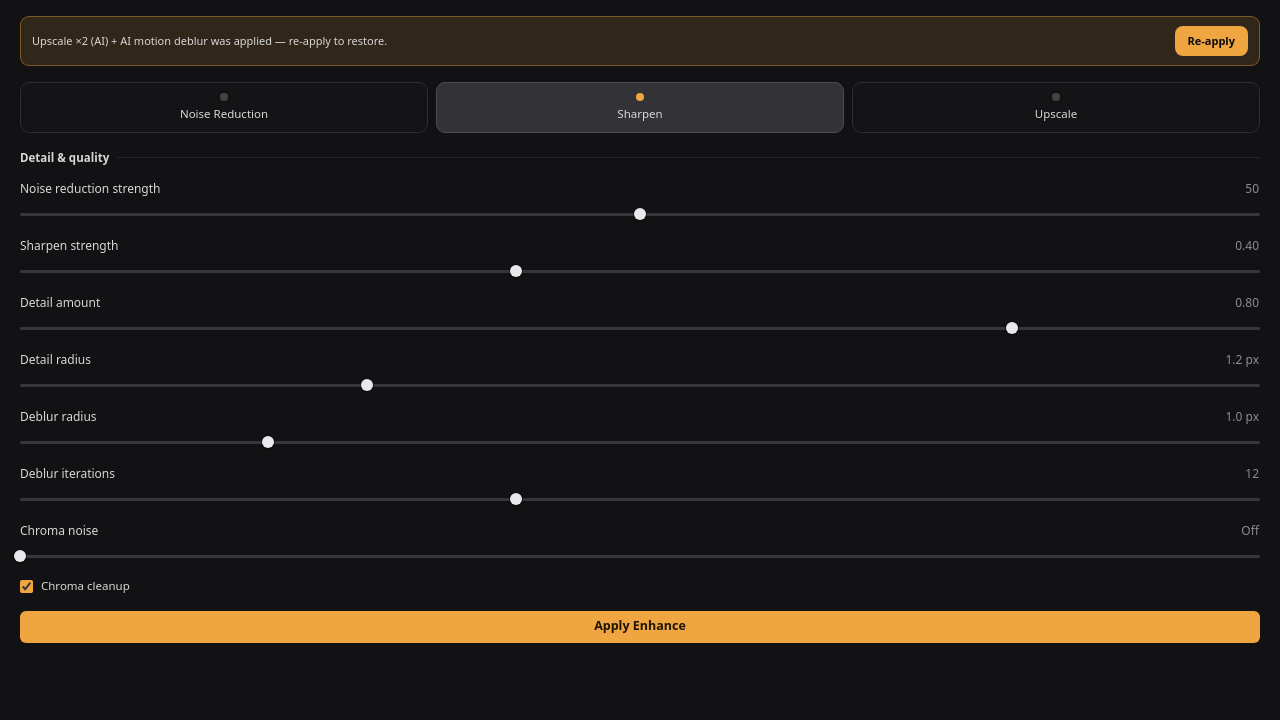
Test: EnhanceModuleComponent — re-apply replays post-bake edits; mid-replay failure re-attaches (Z1 LOW) › MID-REPLAY FAILURE: re-attaches the already-read edits to disk instead of dropping them
The width and height of the screenshot is (1280, 720).
Click the button with test id "upscale-reapply-btn" at [1211, 41], box [1174, 26, 1248, 56]
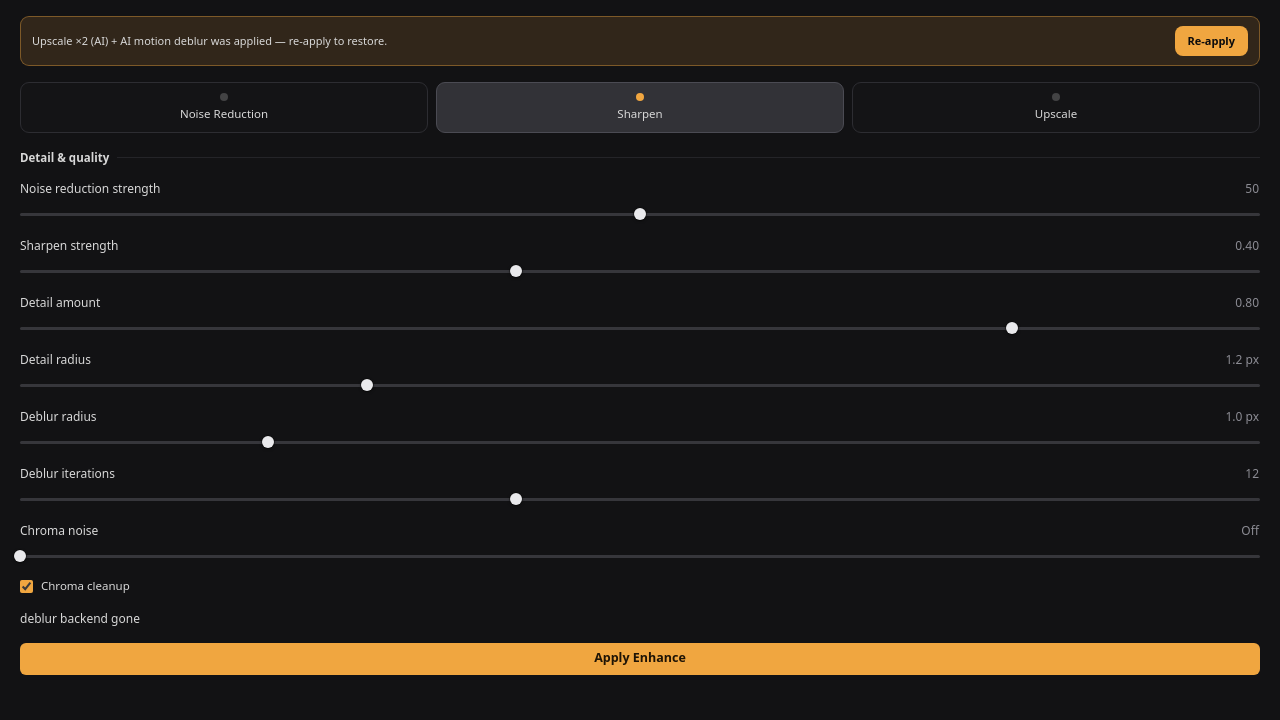
Result: the message reads "deblur backend gone" at [20, 610, 140, 627]
